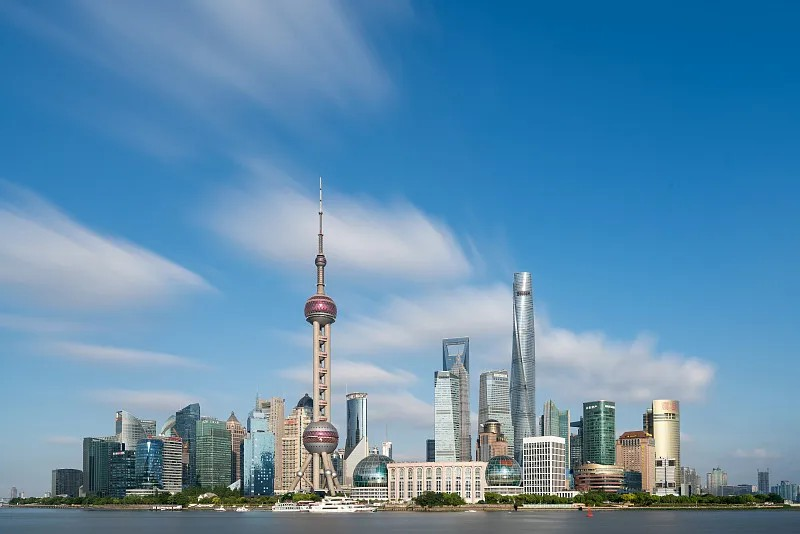Oriental: (289, 178, 338, 493)
